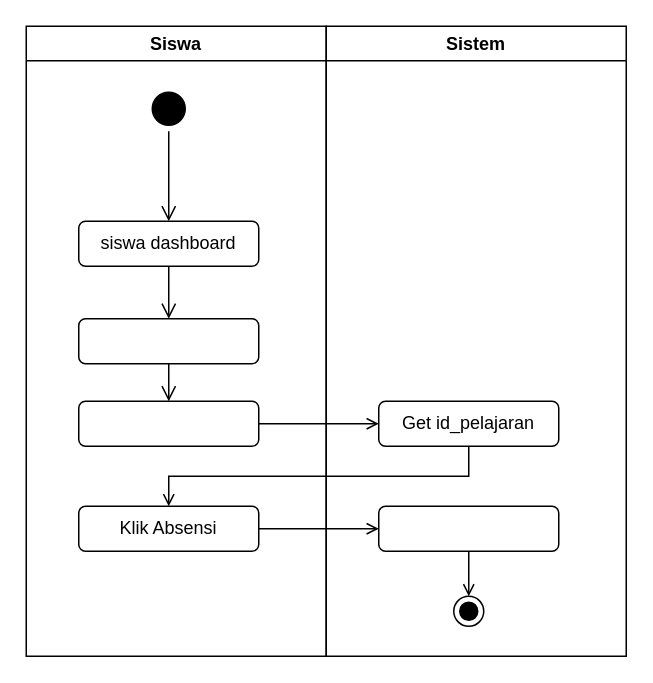
Some shapes in this 653 by 683 pixel diagram are drawn without their labels. Each missing label, with the centre of its shape:
absensi berhasil: the point at 468,528
lihat matpel tanggal hari ini: the point at 168,340
Pilih Matpel: the point at 168,423
